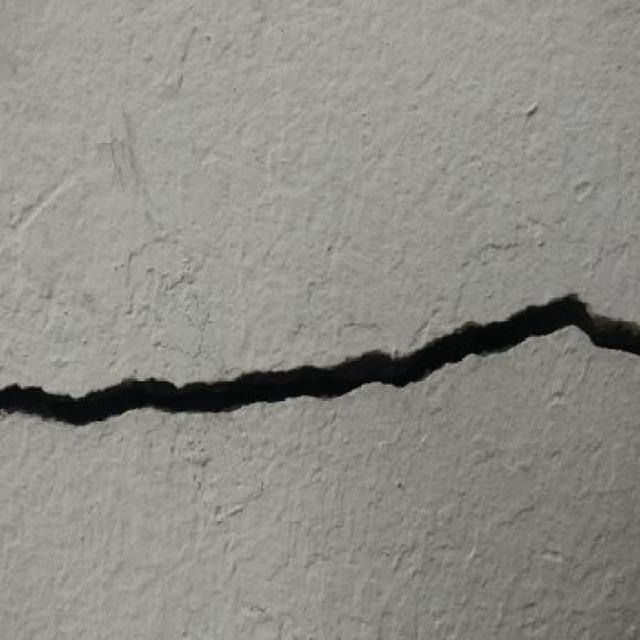wall_crack: (0, 295, 638, 425)
